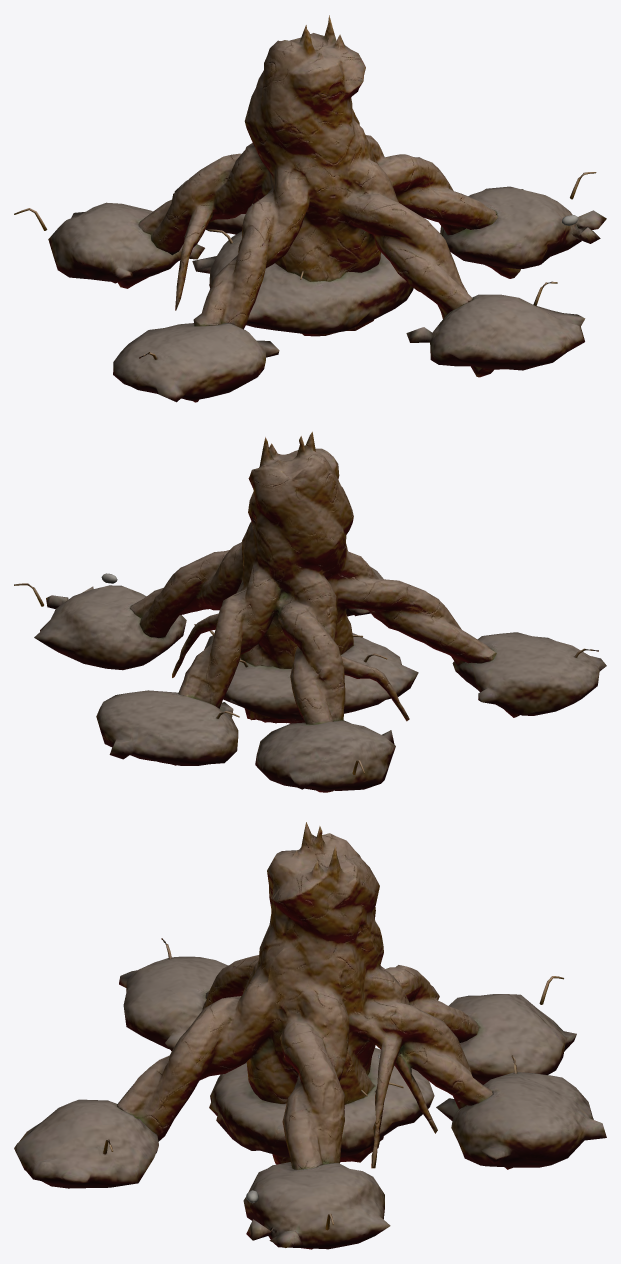
3 views of the same model, one above another, from view 1: azimuth 30°, elevation 25°; view 2: azimuth 150°, elevation 25°; view 3: azimuth 270°, elevation 25° (orthographic). The views are drawn at different scales.
Visible parts, largest first — view 1: bark, soil, rootlets; view 2: bark, soil, rootlets; view 3: bark, soil.
Boxes of the visible parts, <box> form: bark: <box>111,15,520,402</box>; soil: <box>48,180,606,402</box>; rootlets: <box>14,172,596,359</box>; bark: <box>130,431,519,792</box>; soil: <box>34,566,606,790</box>; rootlets: <box>14,583,598,774</box>; bark: <box>117,822,512,1249</box>; soil: <box>14,956,606,1249</box>.
Bounding box in the file's own units: 2.36 × 1.24 × 2.06.
4 materials, 4 textured.
